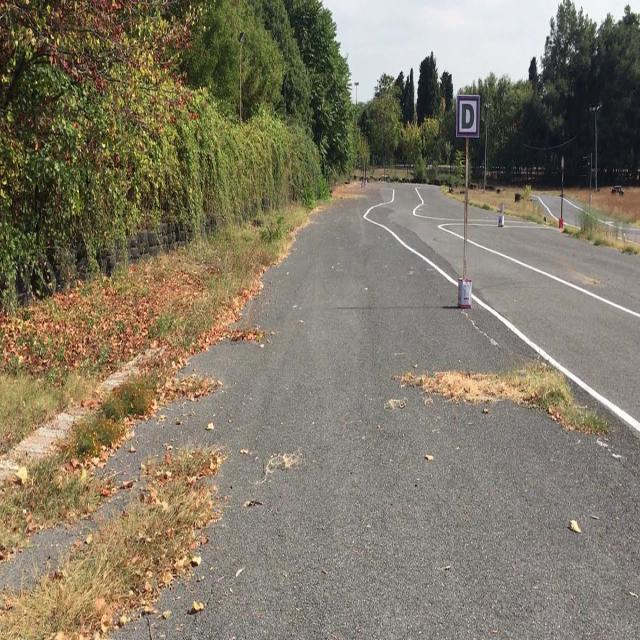durak: (457, 96, 479, 136)
